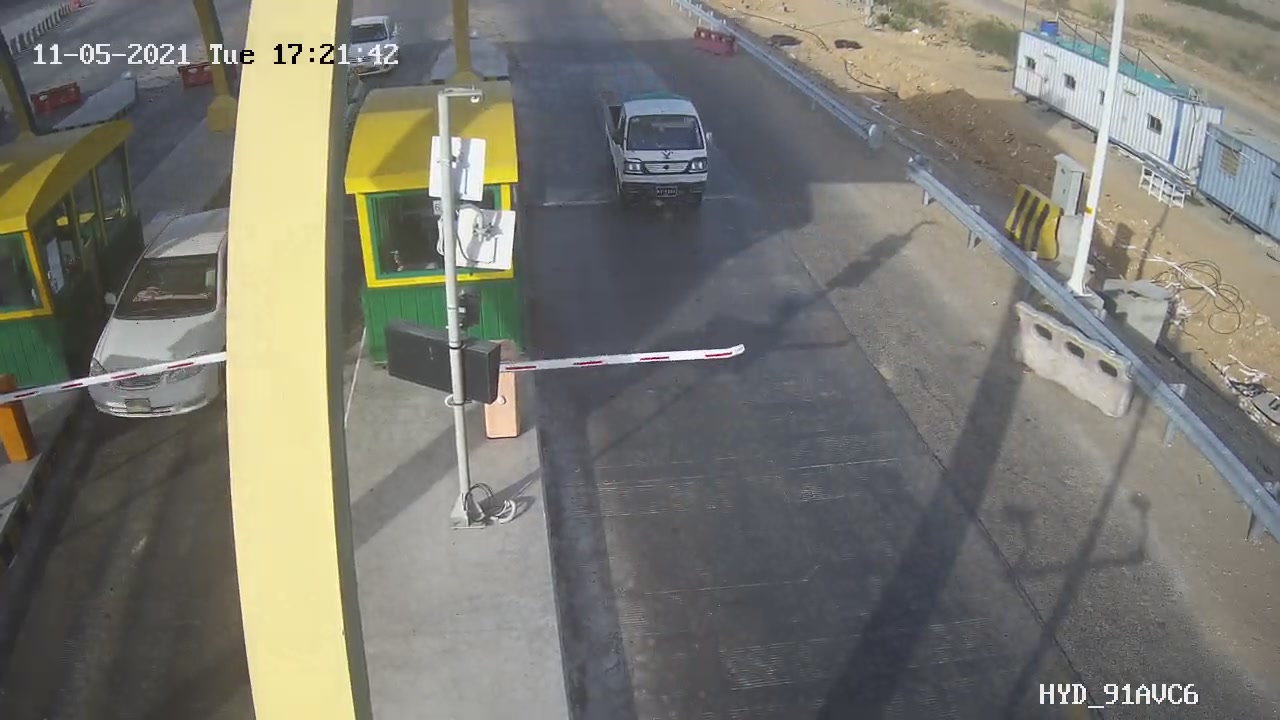F1: (592, 82, 729, 227)
